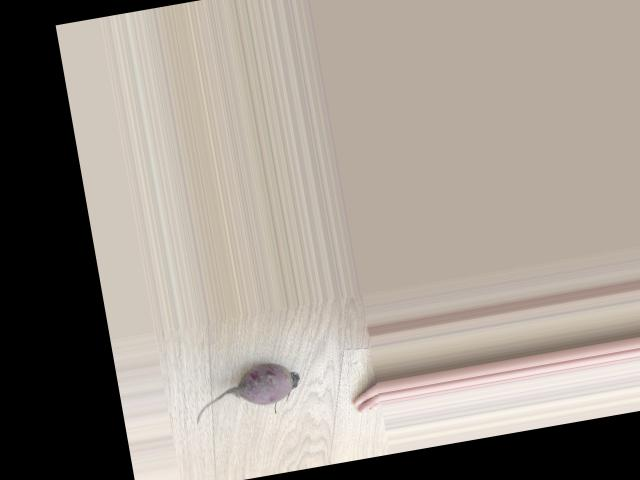beet: (188, 359, 303, 427)
